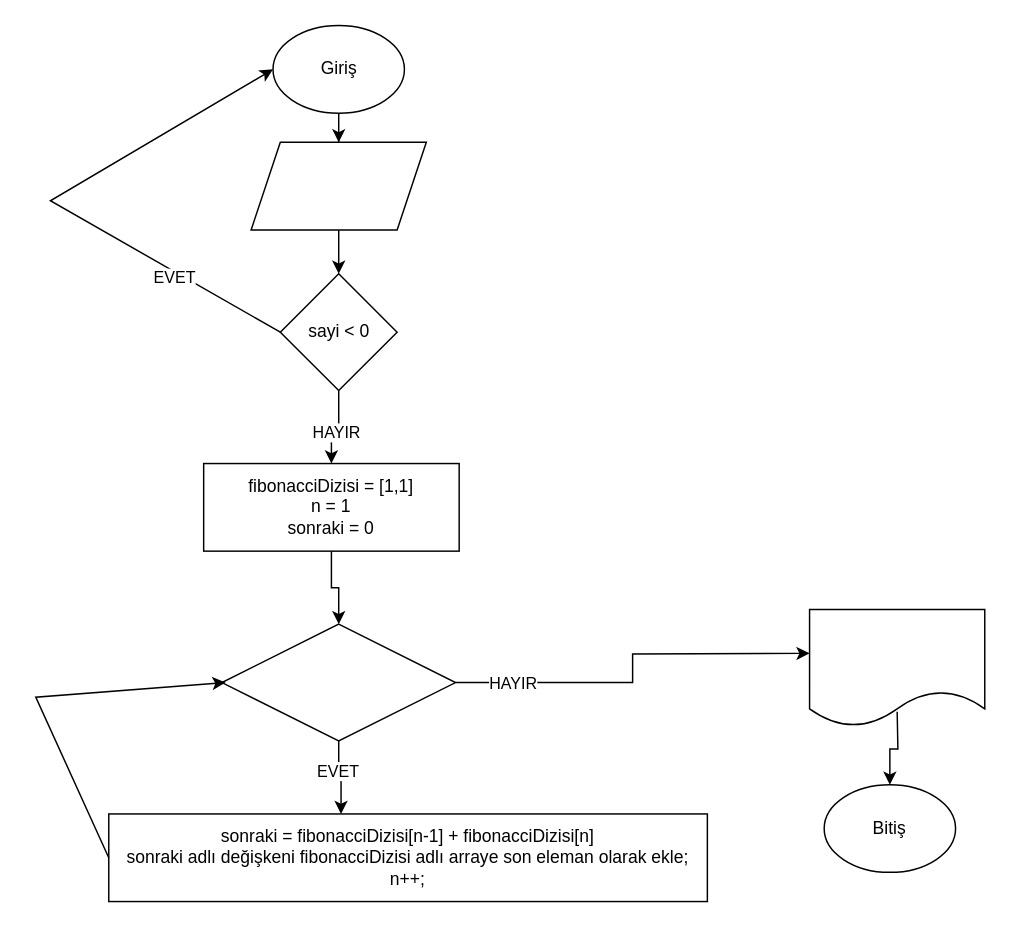
The diagram is 1010 pixels wide and 927 high, and some of its shapes have lost their labels. The box of each missing label's shape, as (x1, y1, x2, y2) in pixels:
fibonacciDizisi: (808, 608, 985, 726)
sayi: (250, 141, 426, 230)
sayi > sonraki: (220, 623, 456, 741)
